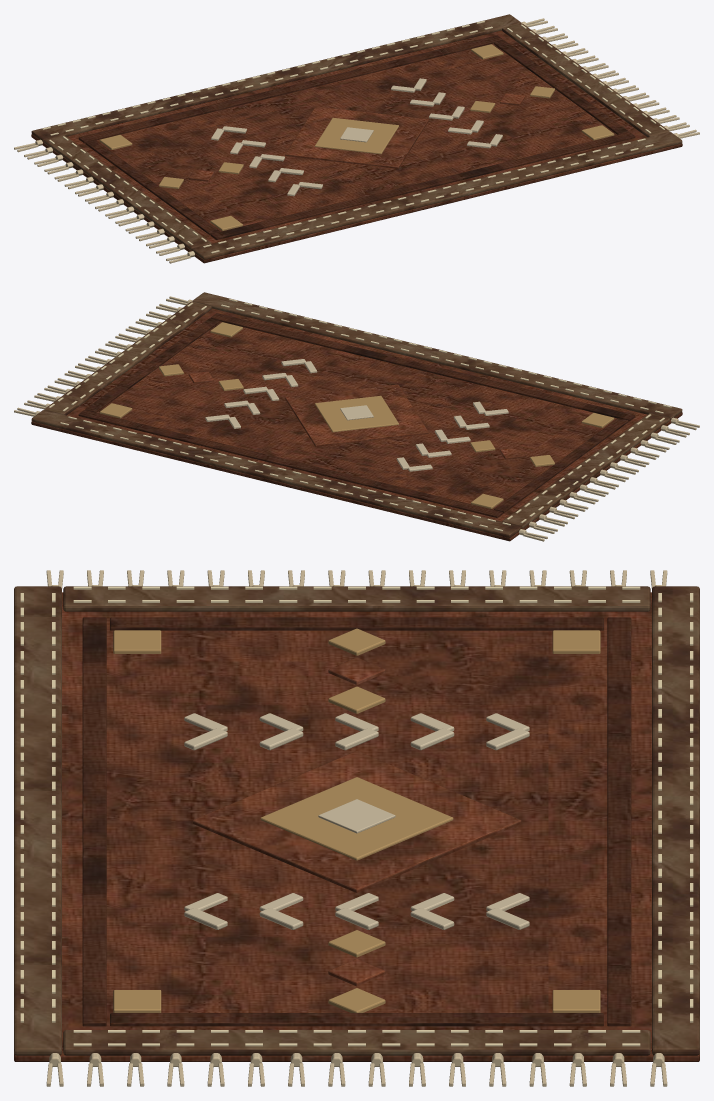
The model's file is fur_rug.glb.
3 renders of one model, top to bottom at view 1: azimuth 30°, elevation 25°; view 2: azimuth 150°, elevation 25°; view 3: azimuth 270°, elevation 25°, orthographic. The views are drawn at different scales.
Visible parts, largest first — view 1: model; view 2: model; view 3: model.
Boxes of the visible parts, box(x1,y1,x2,y2) form: model: box(14, 14, 699, 263); model: box(14, 292, 699, 541); model: box(14, 570, 699, 1086).
Size of the model in its own units: 1.77 by 0.0255 by 1.
Materials: 8 (4 with a texture image).
